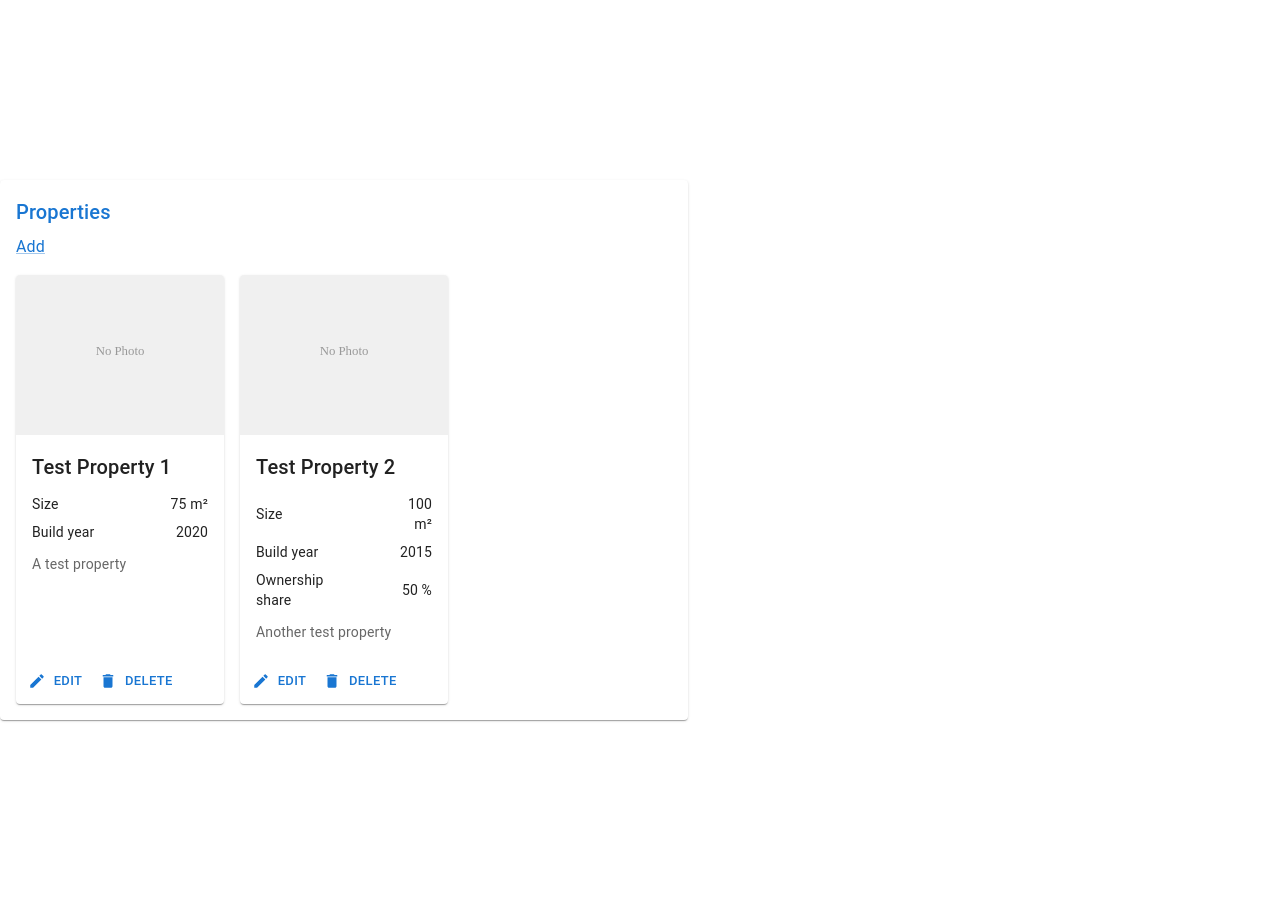
Test case: AssetCardList › opens delete confirmation dialog
This screenshot has width=1280, height=900.
Expected: the text "Test Property 1" is shown, [32, 455, 171, 479]
Click the 1st button "Delete" at (137, 681), box [96, 666, 178, 696]
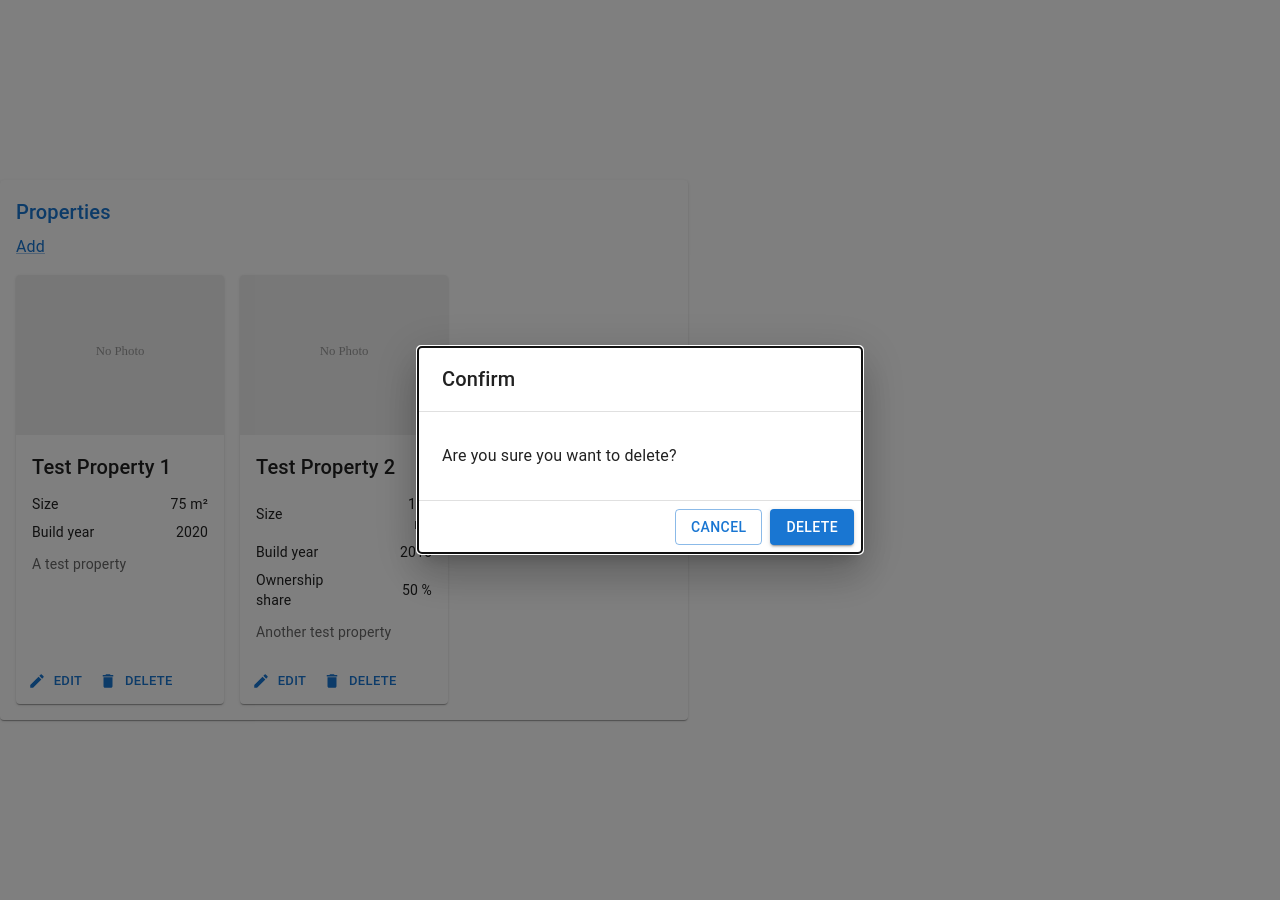
Result: the text "Are you sure you want to delete?" is shown at [442, 446, 677, 465]
